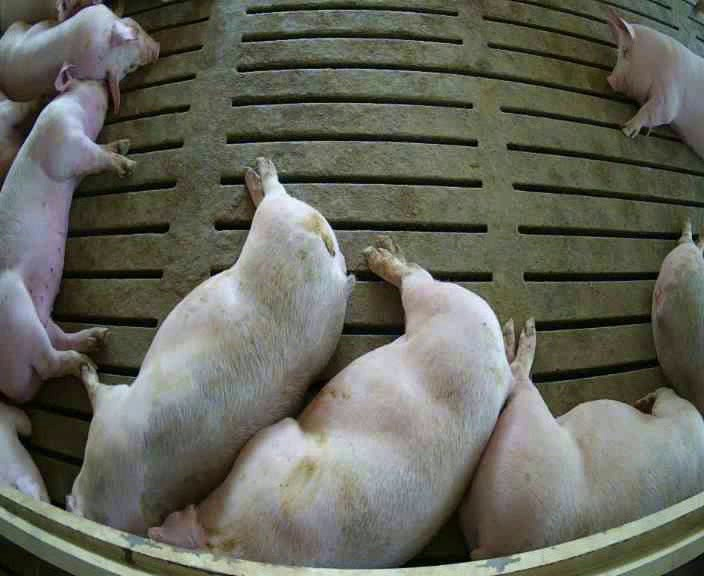pig: (149, 240, 511, 567), (65, 158, 350, 533), (460, 320, 703, 558), (0, 64, 132, 400), (0, 5, 158, 108), (608, 9, 703, 158), (652, 222, 703, 413)
